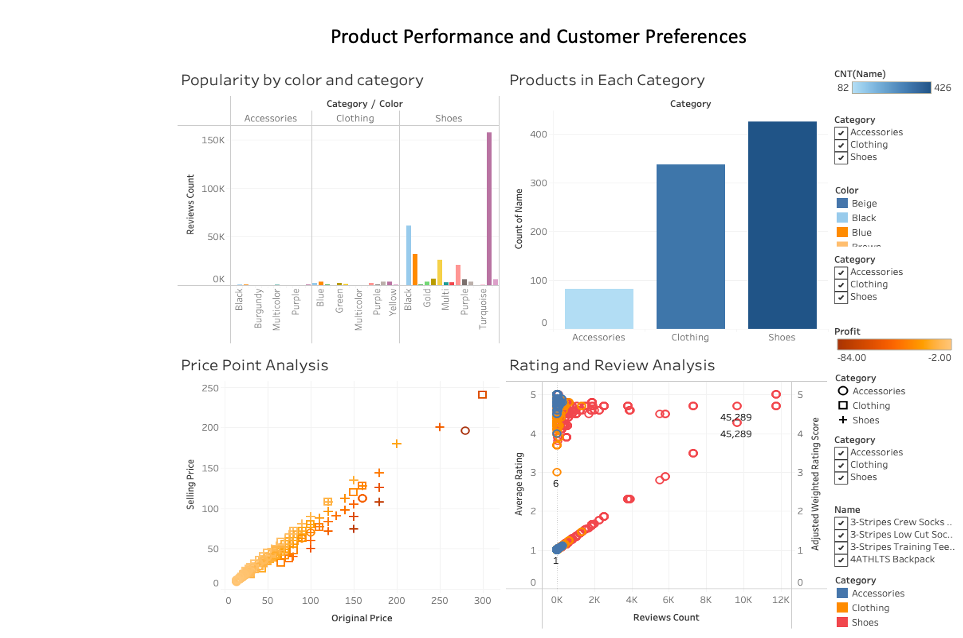

Layout of this report page (visuals, bound fields, positions):
{"tool":"tableau","page":{"name":"Product Performane and Customer Preferences ","canvas":[1000,800],"ordinal":1},"visuals":[{"type":"worksheet","title":"Popularity by color and category","mark":"Automatic","rows":["reviews_count"],"cols":["category","color"],"box":[8,8,412,392]},{"type":"worksheet","title":"Products in Each Category","mark":"Automatic","rows":["name"],"cols":["category"],"box":[420,8,412,392]},{"type":"legend","title":"Products in Each Category","param":"[federated.1pnpzbg0f21ytk16soupk0bmw4ft].[cnt:name:qk]","box":[832,8,160,65]},{"type":"filter","title":"Popularity by color and category","param":"[federated.1pnpzbg0f21ytk16soupk0bmw4ft].[none:category:nk]","box":[832,73,160,96.4]},{"type":"legend","title":"Popularity by color and category","param":"[federated.1pnpzbg0f21ytk16soupk0bmw4ft].[none:color:nk]","box":[832,169.4,160,96.4]},{"type":"filter","title":"Price Point Analysis","param":"[federated.1pnpzbg0f21ytk16soupk0bmw4ft].[none:category:nk]","box":[832,265.8,160,96.4]},{"type":"legend","title":"Price Point Analysis","param":"[federated.1pnpzbg0f21ytk16soupk0bmw4ft].[sum:Calculation_86975813642993664:qk]","box":[832,362.2,160,65]},{"type":"worksheet","title":"Price Point Analysis","mark":"Automatic","rows":["selling_price"],"cols":["original_price"],"box":[8,400,412,392]},{"type":"worksheet","title":"Rating and Review Analysis","mark":"Automatic","rows":["average_rating","Calculation_86975813662785541"],"cols":["reviews_count"],"box":[420,400,412,392]},{"type":"legend","title":"Price Point Analysis","param":"[federated.1pnpzbg0f21ytk16soupk0bmw4ft].[none:category:nk]","box":[832,427.2,160,86]},{"type":"filter","title":"Rating and Review Analysis","param":"[federated.1pnpzbg0f21ytk16soupk0bmw4ft].[none:category:nk]","box":[832,513.2,160,96.4]},{"type":"filter","title":"Rating and Review Analysis","param":"[federated.1pnpzbg0f21ytk16soupk0bmw4ft].[none:name:nk]","box":[832,609.6,160,96.4]},{"type":"legend","title":"Rating and Review Analysis","param":"[federated.1pnpzbg0f21ytk16soupk0bmw4ft].[none:category:nk]","box":[832,706,160,86]}]}

Visuals, with their boxes on the page's 1000x800 design canvas (x1, y1, x2, y2). These are canvas units, not pixel positions in the 963x638 screenshot, which may show the page scaled, cropped or inside an application window:
"Popularity by color and category" worksheet: {"left": 8, "top": 8, "right": 420, "bottom": 400}
"Products in Each Category" worksheet: {"left": 420, "top": 8, "right": 832, "bottom": 400}
"Products in Each Category" legend: {"left": 832, "top": 8, "right": 992, "bottom": 73}
"Popularity by color and category" filter: {"left": 832, "top": 73, "right": 992, "bottom": 169}
"Popularity by color and category" legend: {"left": 832, "top": 169, "right": 992, "bottom": 266}
"Price Point Analysis" filter: {"left": 832, "top": 266, "right": 992, "bottom": 362}
"Price Point Analysis" legend: {"left": 832, "top": 362, "right": 992, "bottom": 427}
"Price Point Analysis" worksheet: {"left": 8, "top": 400, "right": 420, "bottom": 792}
"Rating and Review Analysis" worksheet: {"left": 420, "top": 400, "right": 832, "bottom": 792}
"Price Point Analysis" legend: {"left": 832, "top": 427, "right": 992, "bottom": 513}
"Rating and Review Analysis" filter: {"left": 832, "top": 513, "right": 992, "bottom": 610}
"Rating and Review Analysis" filter: {"left": 832, "top": 610, "right": 992, "bottom": 706}
"Rating and Review Analysis" legend: {"left": 832, "top": 706, "right": 992, "bottom": 792}
